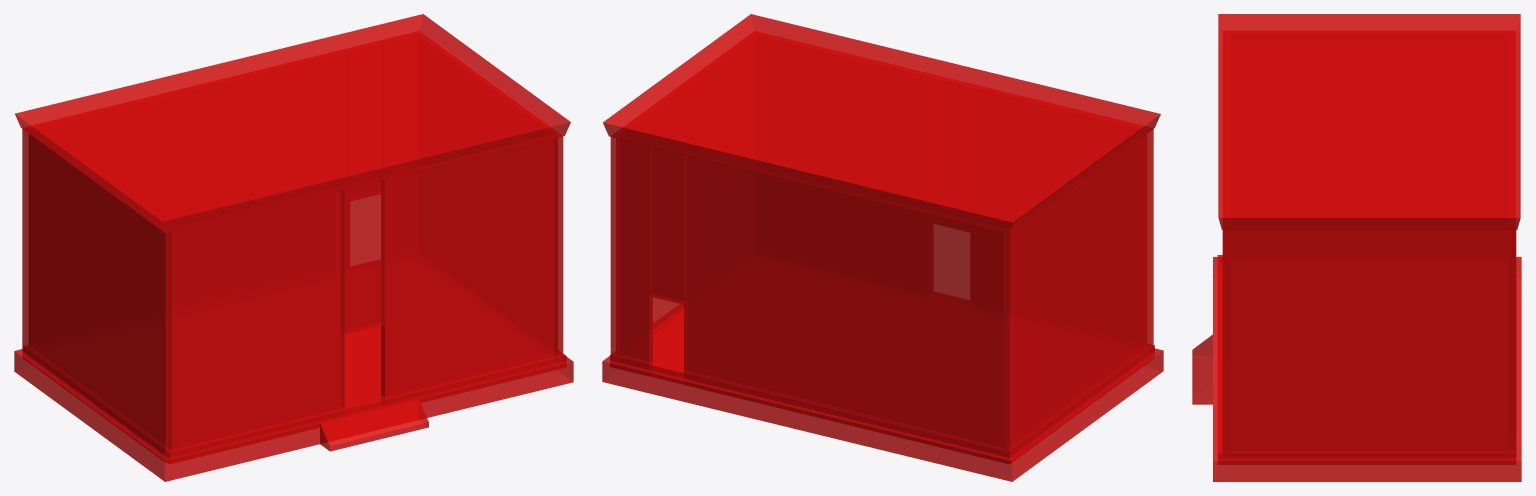
File: SM_Bld_State_Building_01_Collision.fbx
3 views of the same model, side by side, from view 1: azimuth 30°, elevation 25°; view 2: azimuth 150°, elevation 25°; view 3: azimuth 270°, elevation 25° (orthographic). The views are drawn at different scales.
Parts seen in each view (by area): view 1: SM_Bld_State_Building_01_Collision; view 2: SM_Bld_State_Building_01_Collision; view 3: SM_Bld_State_Building_01_Collision.
Boxes of the visible parts, x1,y1,x2,y2 form: SM_Bld_State_Building_01_Collision: [14, 14, 573, 481]; SM_Bld_State_Building_01_Collision: [602, 14, 1163, 481]; SM_Bld_State_Building_01_Collision: [1192, 14, 1521, 481].
Bounding box in the file's own units: 1597 × 965 × 1090.
